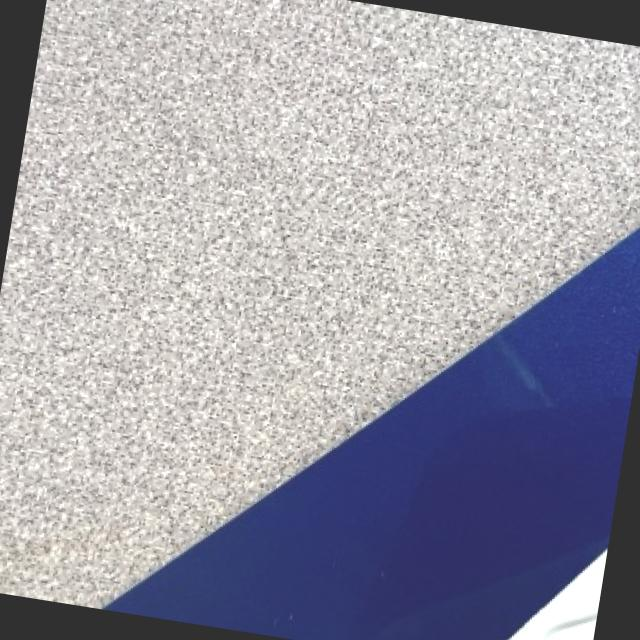healthy: (0, 0, 640, 607)
